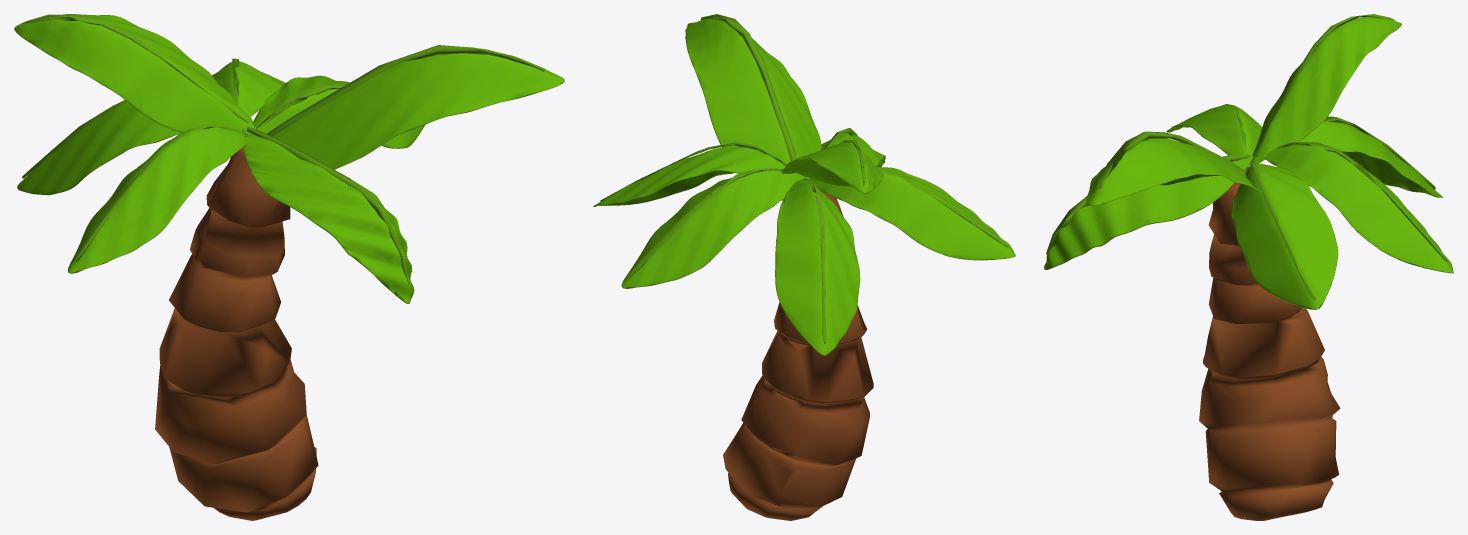
File: palmeira.glb
3 views of the same model, side by side, from view 1: azimuth 30°, elevation 25°; view 2: azimuth 150°, elevation 25°; view 3: azimuth 270°, elevation 25° (orthographic). The views are drawn at different scales.
Parts seen in each view (by area): view 1: Plane, Cylinder.002, Plane.003; view 2: Plane, Cylinder.002, Plane.003; view 3: Plane, Cylinder.002, Plane.003.
Part boxes in pixels (x1,y1,x2,y2): Plane: [14, 14, 564, 303]; Cylinder.002: [155, 148, 318, 520]; Plane.003: [21, 14, 545, 285]; Plane: [593, 19, 1015, 355]; Cylinder.002: [723, 191, 873, 520]; Plane.003: [600, 14, 1008, 343]; Plane: [1044, 17, 1453, 309]; Cylinder.002: [1199, 167, 1340, 520]; Plane.003: [1046, 14, 1448, 300].
Size of what is drawn, in the model's own units: 1.89 by 2.01 by 1.69.
